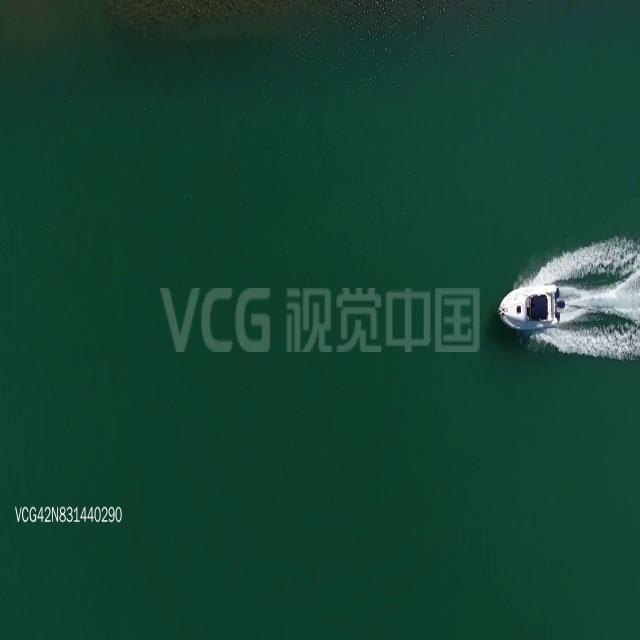houseboat: (495, 276, 563, 329)
